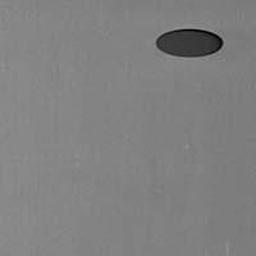Punching: (156, 28, 225, 59)
